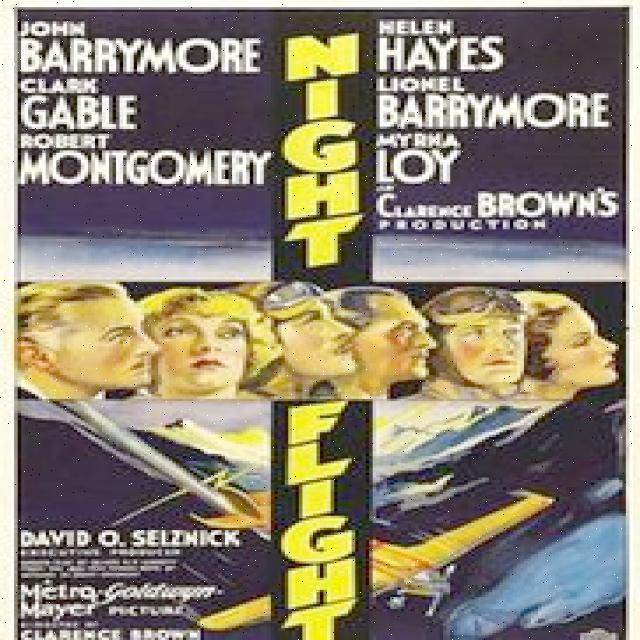movie-judul: (274, 33, 367, 640)
picture: (18, 279, 626, 402)
